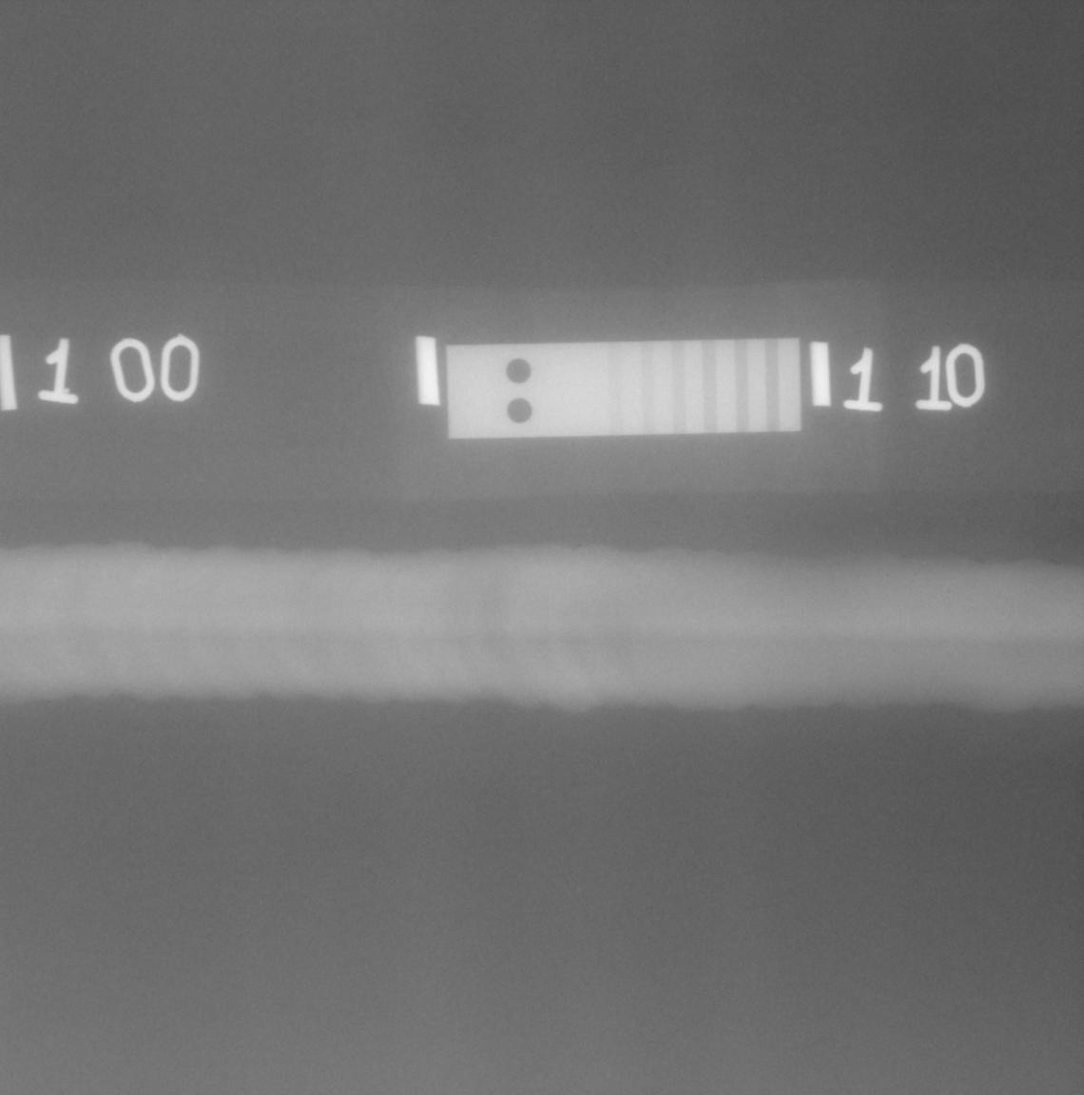Reference Standard 2: (446, 338, 801, 439)
